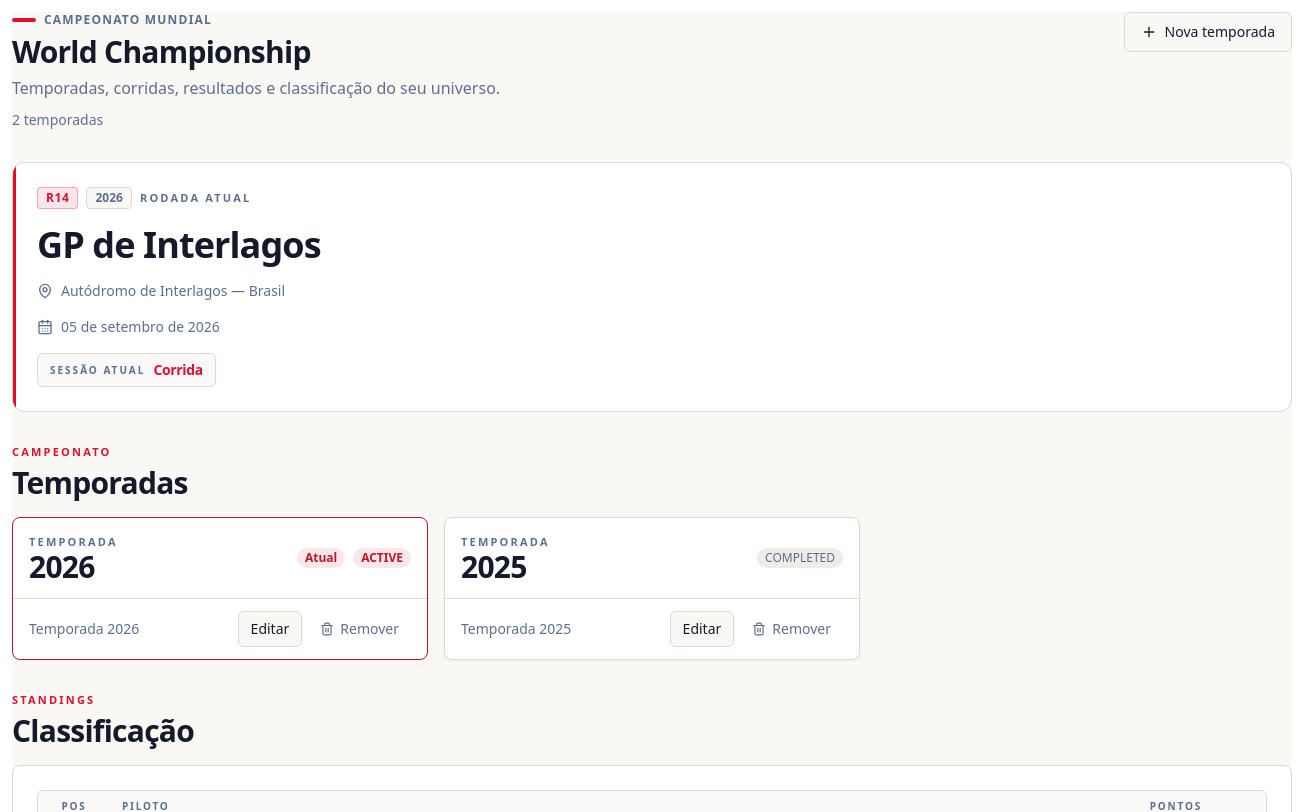
Test: Championship Page - World Championship › trocar de temporada recarrega calendário e classificação
The width and height of the screenshot is (1304, 812).
Check: the heading "Classificação" is shown, box left=12, top=712, right=194, bottom=748
Click the button "Temporada 2025 COMPLETED" at x=505, y=541, box left=445, top=518, right=859, bottom=598
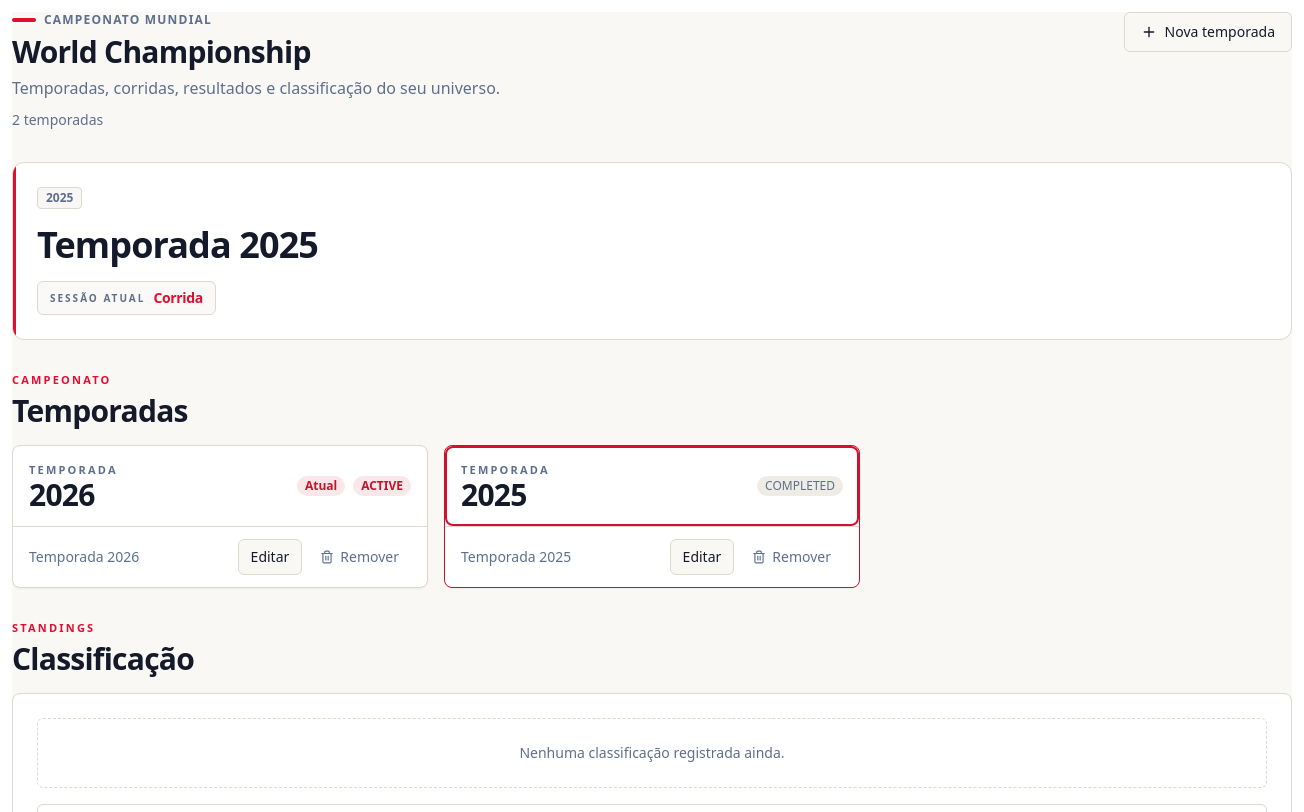
Check: the text "Nenhuma classificação registrada ainda." is shown, box left=37, top=718, right=1267, bottom=788
